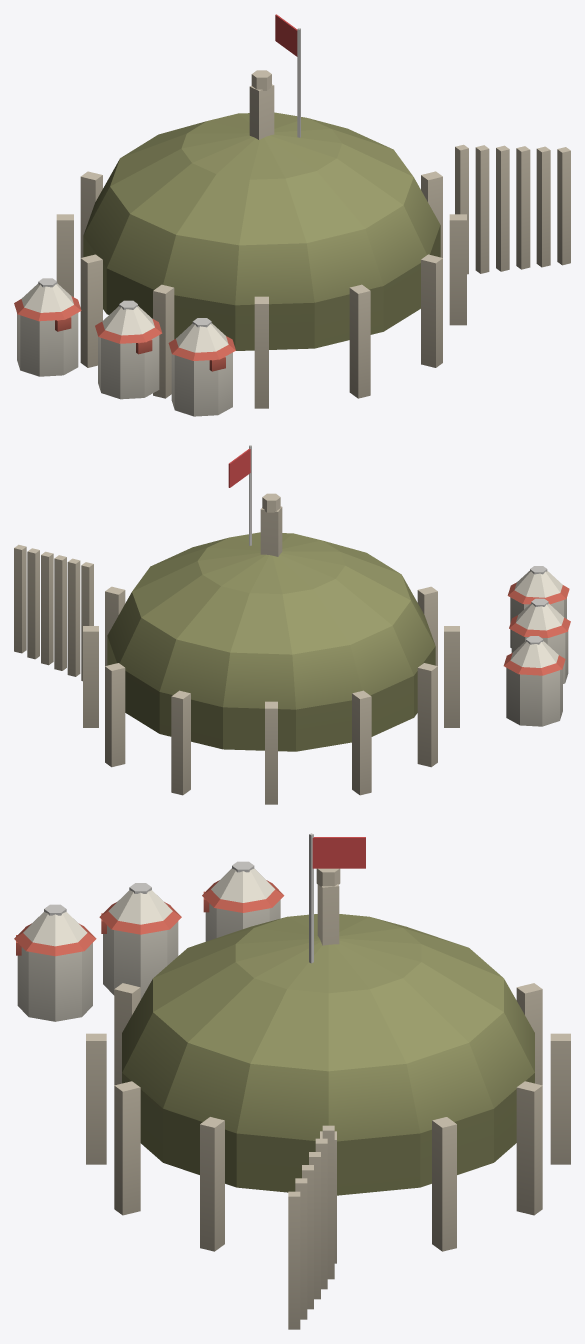
File: abbey_steppe_b.glb
3 renders of one model, top to bottom at view 1: azimuth 30°, elevation 25°; view 2: azimuth 150°, elevation 25°; view 3: azimuth 270°, elevation 25°, orthographic. The views are drawn at different scales.
Parts seen in each view (by area): view 1: abbey_steppe_b; view 2: abbey_steppe_b; view 3: abbey_steppe_b.
Part boxes in pixels (box(x1,y1,x2,y2)): abbey_steppe_b: box(14, 14, 570, 416); abbey_steppe_b: box(14, 445, 570, 804); abbey_steppe_b: box(14, 833, 570, 1329).
Size of the model in its own units: 2.29 by 1.11 by 1.63.
